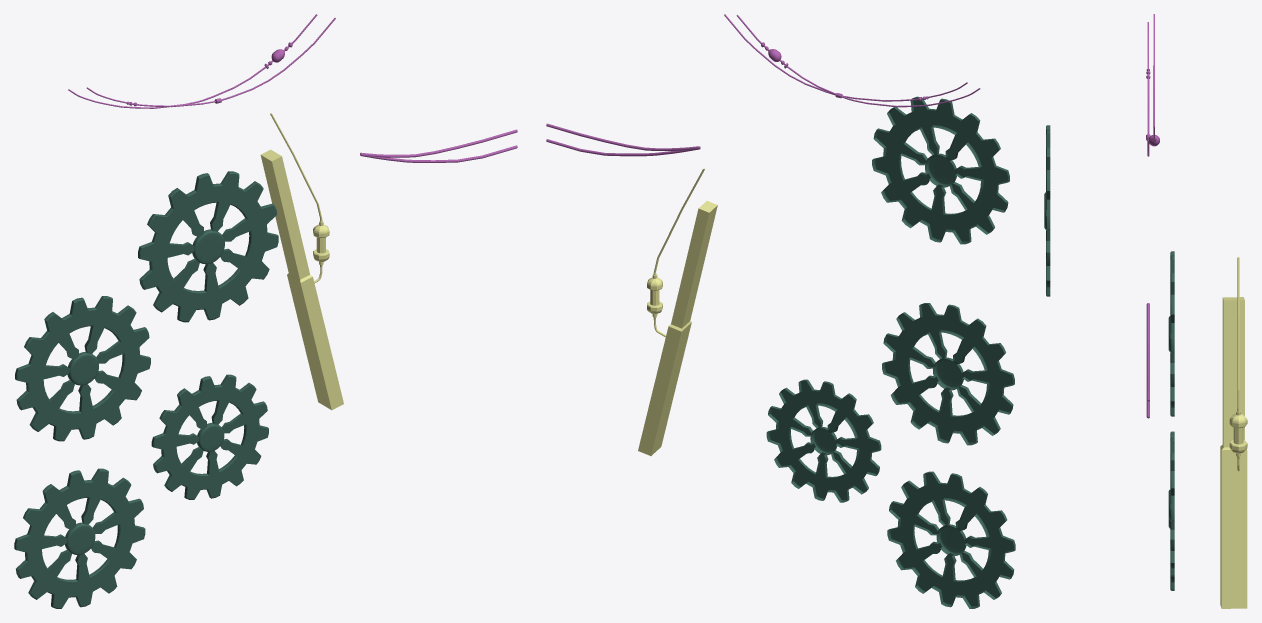
File: Gears_Wires_Other.fbx
The picture shows the model from 3 angles, left to right: view 1: azimuth 30°, elevation 25°; view 2: azimuth 150°, elevation 25°; view 3: azimuth 270°, elevation 25°; orthographic projection. The views are drawn at different scales.
Parts seen in each view (by area): view 1: Gear1, Gear2, Gear4, Gear3, Beam, HangingThing, Wire2; view 2: Gear1, Gear2, Gear4, Gear3, Beam, HangingThing, Wire2; view 3: Beam, HangingThing, Gear1, Gear2, Gear3, Wire3, Wire1, Wire2.
Boxes of the visible parts, left/top/right/bottom form: Gear1: left=138, top=171, right=278, bottom=322; Gear2: left=15, top=296, right=150, bottom=441; Gear4: left=14, top=468, right=145, bottom=608; Gear3: left=151, top=374, right=268, bottom=499; Beam: left=260, top=149, right=343, bottom=410; HangingThing: left=270, top=113, right=329, bottom=283; Wire2: left=68, top=14, right=317, bottom=108; Gear1: left=872, top=96, right=1009, bottom=244; Gear2: left=882, top=303, right=1014, bottom=445; Gear4: left=887, top=471, right=1015, bottom=608; Gear3: left=766, top=379, right=881, bottom=502; Beam: left=638, top=201, right=717, bottom=455; HangingThing: left=647, top=168, right=704, bottom=336; Wire2: left=736, top=14, right=980, bottom=107; Beam: left=1220, top=297, right=1247, bottom=608; HangingThing: left=1229, top=257, right=1247, bottom=471; Gear1: left=1044, top=125, right=1050, bottom=296; Gear2: left=1168, top=251, right=1174, bottom=416; Gear3: left=1168, top=434, right=1174, bottom=575; Wire3: left=1146, top=303, right=1149, bottom=401; Wire1: left=1146, top=22, right=1150, bottom=156; Wire2: left=1148, top=14, right=1159, bottom=146.
Size of the model in its own units: 12.46 by 13.21 by 4.23.
